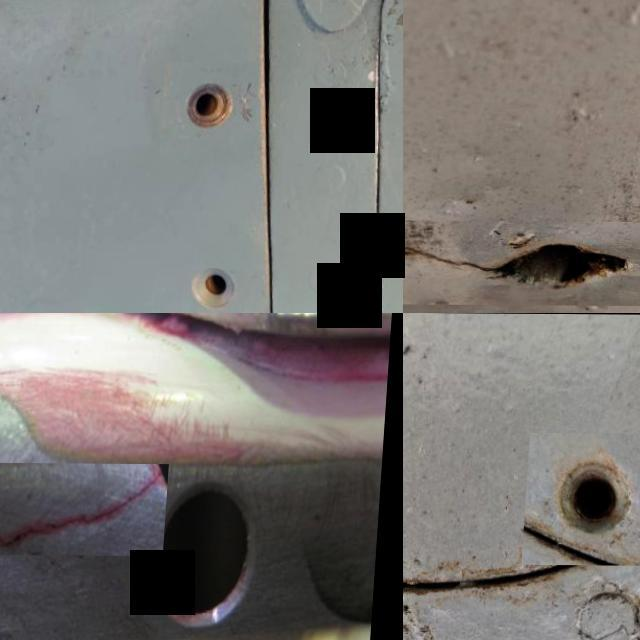Crack: (403, 219, 640, 305), (0, 464, 172, 555)
Missing_Fastener: (524, 432, 640, 565), (165, 62, 264, 158), (171, 249, 263, 313)
